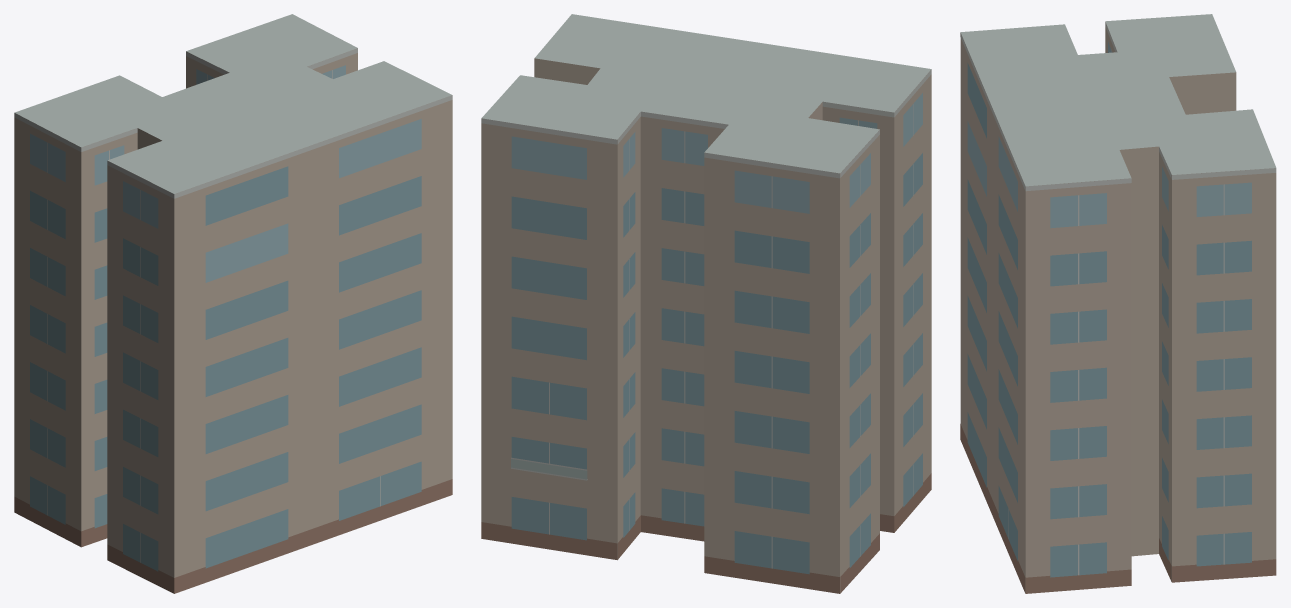
Rendered from survey-upis-32704513.glb.
3 views of the same model, side by side, from view 1: azimuth 30°, elevation 25°; view 2: azimuth 150°, elevation 25°; view 3: azimuth 270°, elevation 25° (orthographic). The views are drawn at different scales.
Visible parts, largest first — view 1: survey-upis-32704513.tmp; view 2: survey-upis-32704513.tmp; view 3: survey-upis-32704513.tmp.
Boxes of the visible parts, bbox=[...] form: survey-upis-32704513.tmp: bbox=[14, 14, 452, 593]; survey-upis-32704513.tmp: bbox=[481, 14, 931, 593]; survey-upis-32704513.tmp: bbox=[960, 14, 1276, 593].
Bounding box in the file's own units: 18.7 × 20.6 × 14.49.
